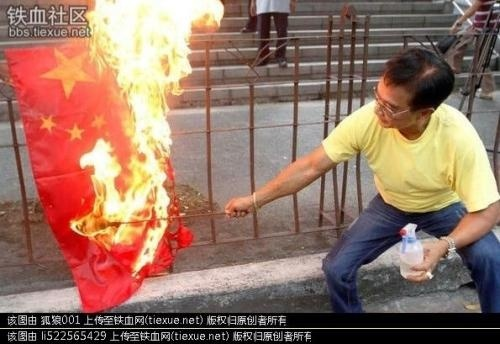fire: (64, 0, 210, 255)
